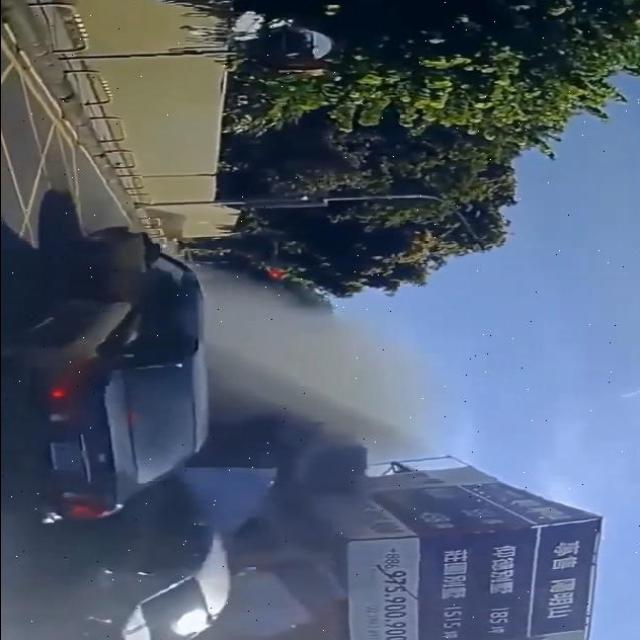accident: (7, 229, 361, 640), (10, 207, 200, 518), (45, 521, 254, 640)
